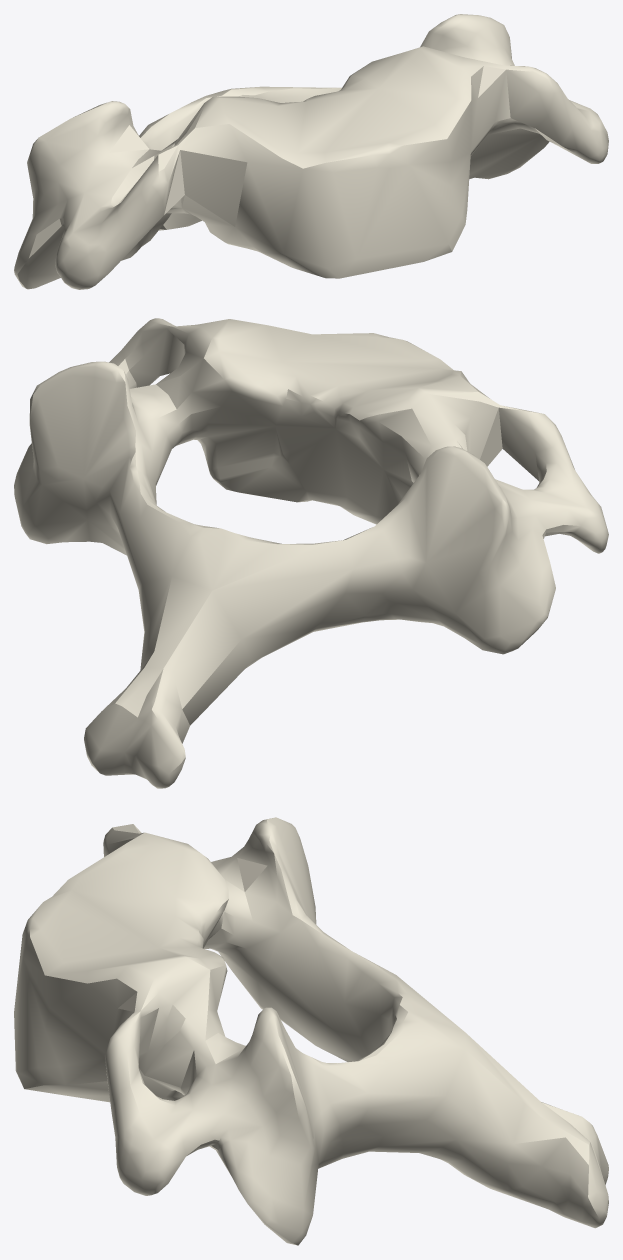
File: fma12521_fj3161.glb
3 renders of one model, top to bottom at view 1: azimuth 30°, elevation 25°; view 2: azimuth 150°, elevation 25°; view 3: azimuth 270°, elevation 25°, orthographic. The views are drawn at different scales.
Visible parts, largest first — view 1: FMA12521_FJ3161; view 2: FMA12521_FJ3161; view 3: FMA12521_FJ3161.
Part boxes in pixels (bbox=[...]): FMA12521_FJ3161: bbox=[14, 14, 608, 289]; FMA12521_FJ3161: bbox=[14, 318, 608, 788]; FMA12521_FJ3161: bbox=[14, 817, 608, 1245].
Size of the model in its own units: 0.0584 by 0.0287 by 0.0497.
